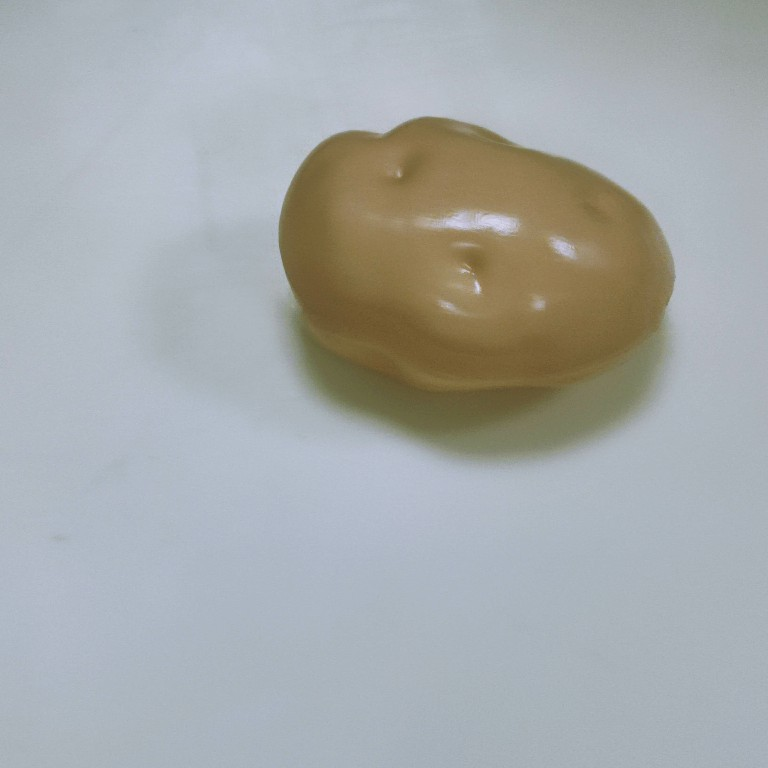fruit_potato: (272, 112, 681, 402)
